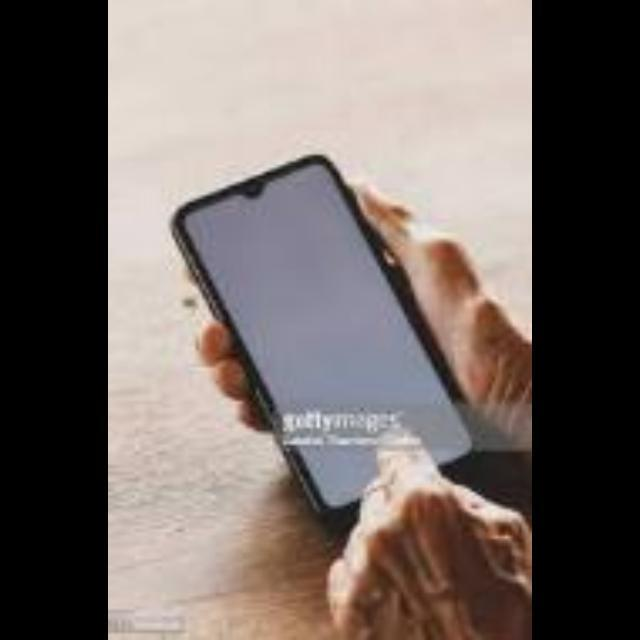Phone: (177, 168, 503, 540)
